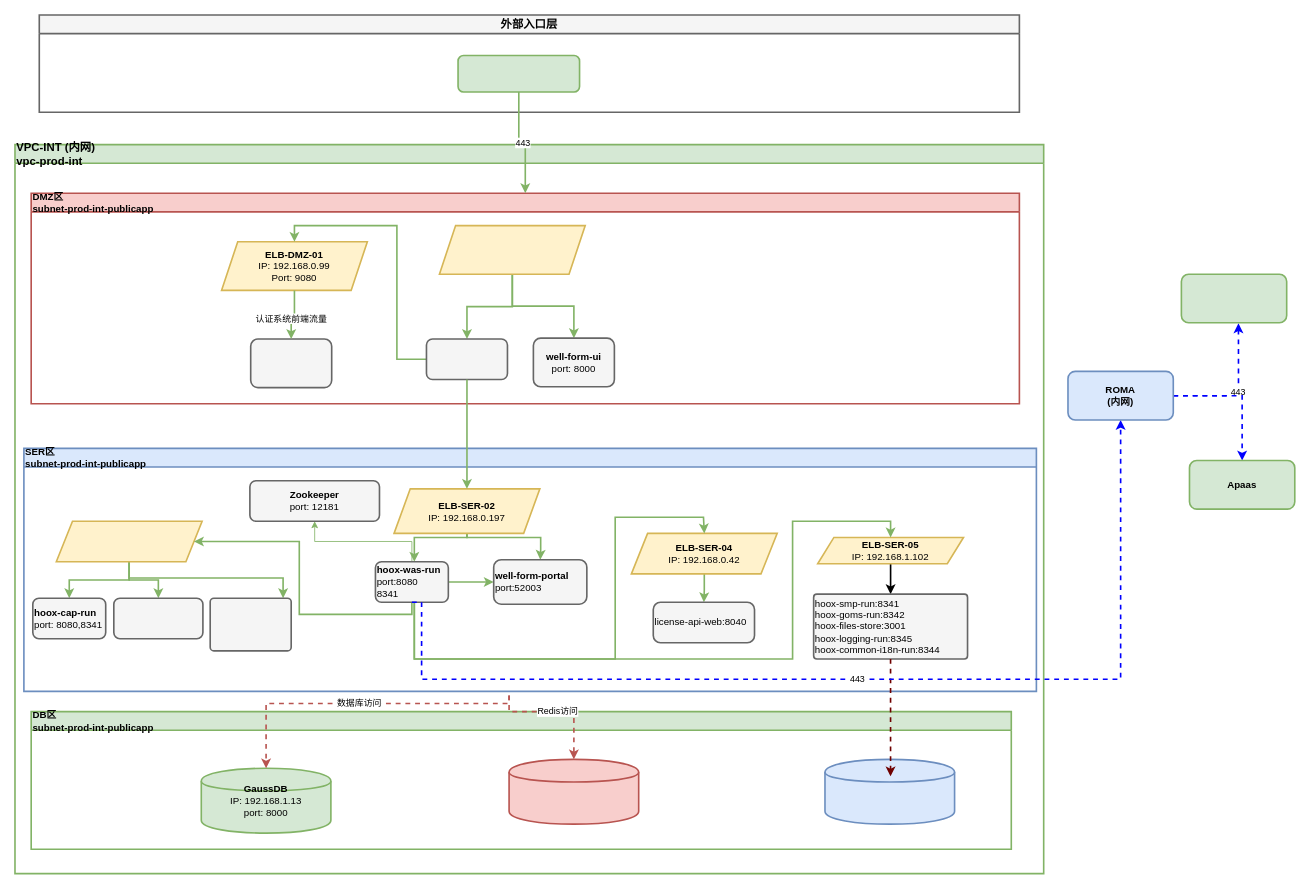
The diagram is 1309 pixels wide and 888 high, and some of its shapes have lost their labels. The shapes that lost their labels are listed below. From the top down, each one's centre as x and y in pixels, then its label:
At pixel 518 73: "GOV Port: 443".
At pixel 512 249: "ELB-DMZ-02 IP: 192.168.0.190 port: 8000, 9090".
At pixel 1233 298: "OneAccess (2G) 192.168.2.114:443".
At pixel 290 363: "idaas-ui port: 9080".
At pixel 466 359: "hoox-was-ui port: 8000".
At pixel 128 541: "ELB-SER-01 IP: 192.168.0.108".
At pixel 158 618: "hoox-payment-run port: 8081, 8342".
At pixel 250 624: "idaas-sso port: 53007 idaas-manage port:53003".
At pixel 573 791: "Redis (DCS) port: 6379".
At pixel 889 791: "SFS共享存储 sfs-prod-publicapp-int-01".
